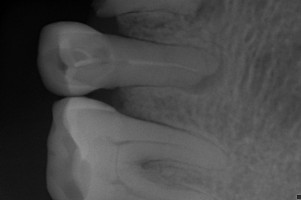Endo-Periodontal Lesion: (137, 159, 153, 169)
Furcation Involvement: (183, 59, 226, 94), (184, 0, 226, 24)
